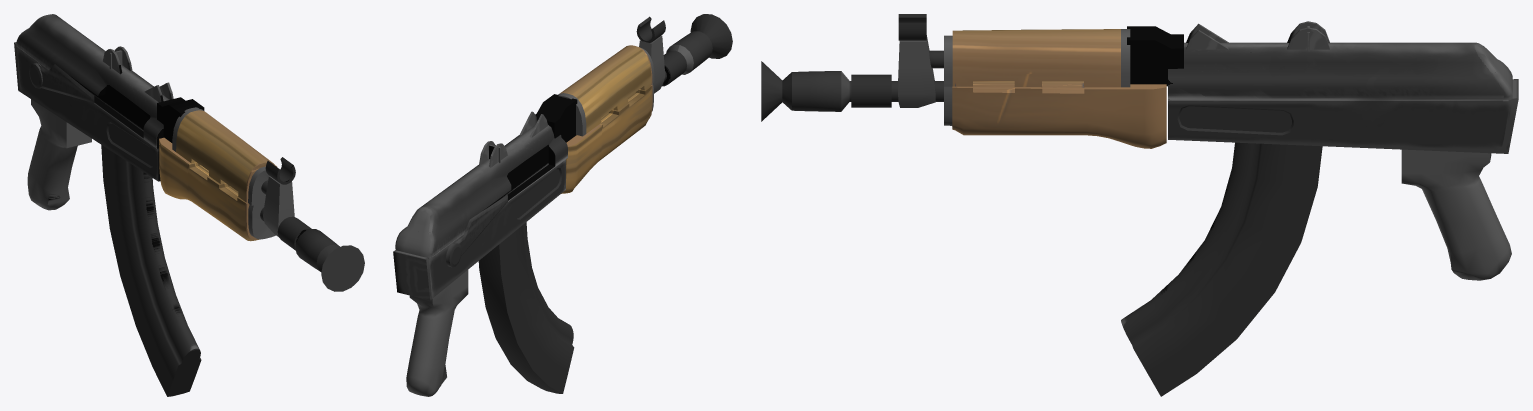
File: aks.fbx
The picture shows the model from 3 angles, left to right: view 1: azimuth 30°, elevation 25°; view 2: azimuth 150°, elevation 25°; view 3: azimuth 270°, elevation 25°; orthographic projection. The views are drawn at different scales.
Parts seen in each view (by area): view 1: AKS74; view 2: AKS74; view 3: AKS74.
Part boxes in pixels (bbox=[...]): AKS74: bbox=[14, 14, 364, 396]; AKS74: bbox=[393, 14, 732, 396]; AKS74: bbox=[761, 14, 1518, 396].
Bounding box in the file's own units: 3.82 × 25.37 × 46.69.
